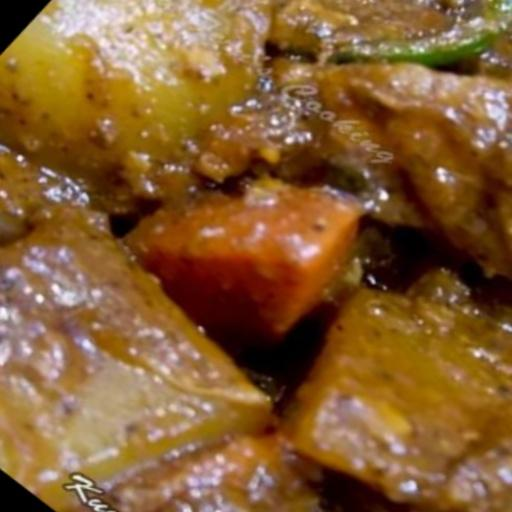pork caldereta: (0, 0, 511, 511)
